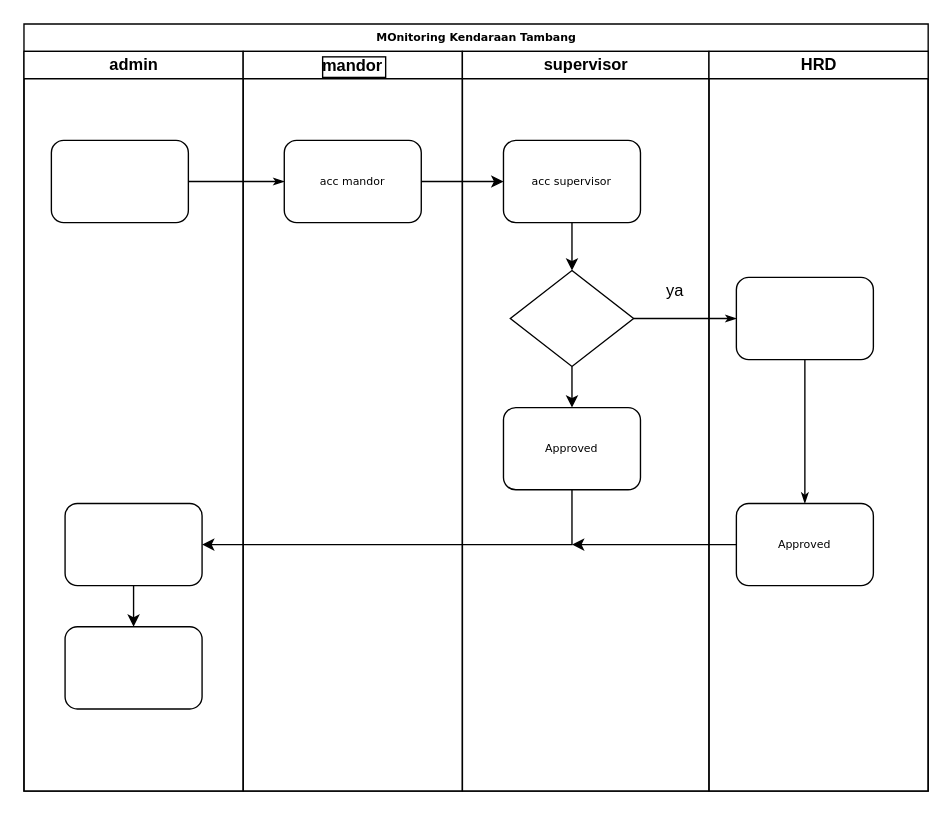
Some shapes in this 952 by 815 pixel diagram are drawn without their labels. Here are the shapes that lost their labels. From the top down, the centre of each, then its label:
At (119,181): "input pengajuan".
At (571,317): "butuh approved by HRD".
At (804,318): "acc HRD".
At (133,544): "Kendaraan digunkanan".
At (133,667): "laporkan kembali".
